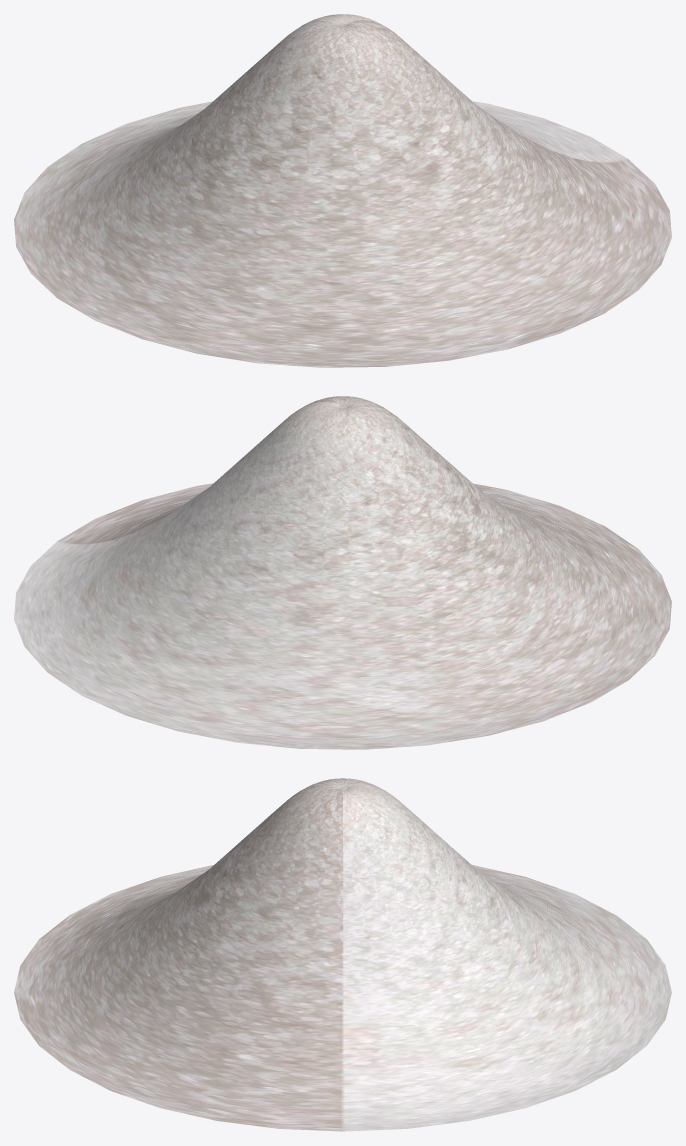
File: sugar.fbx
3 views of the same model, one above another, from view 1: azimuth 30°, elevation 25°; view 2: azimuth 150°, elevation 25°; view 3: azimuth 270°, elevation 25° (orthographic).
Visible parts, largest first — view 1: Lathe; view 2: Lathe; view 3: Lathe.
Part boxes in pixels (x1,y1,x2,y2): Lathe: [14, 14, 671, 367]; Lathe: [14, 396, 671, 749]; Lathe: [14, 778, 671, 1131].
Size of the model in its own units: 461 by 158 by 461.
Materials: 1 (1 with a texture image).
